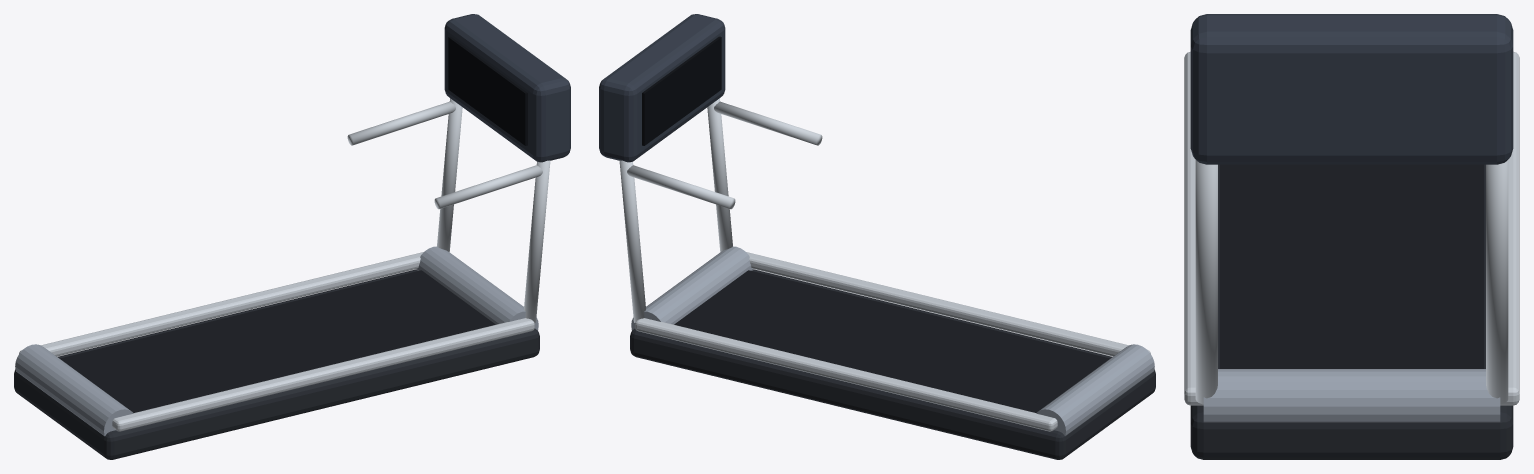
Rendered from cinta_correr.glb.
3 renders of one model, left to right at view 1: azimuth 30°, elevation 25°; view 2: azimuth 150°, elevation 25°; view 3: azimuth 270°, elevation 25°, orthographic. The views are drawn at different scales.
Parts seen in each view (by area): view 1: banda, Cube, Cube.003, Cube.001, Cube.002, pantalla, Cylinder, Cylinder.001, Cylinder.002, Cylinder.004, Cylinder.003, Cylinder.005; view 2: banda, Cube, Cube.003, Cube.002, Cube.001, pantalla, Cylinder, Cylinder.001, Cylinder.004, Cylinder.002, Cylinder.005, Cylinder.003; view 3: banda, Cube.003, Cylinder.001, Cube, Cylinder.002, Cylinder.004, Cube.001, Cube.002.
Boxes of the visible parts, left/top/right/bottom form: banda: left=59, top=270, right=495, bottom=412; Cube: left=14, top=269, right=539, bottom=459; Cube.003: left=444, top=14, right=570, bottom=162; Cube.001: left=112, top=318, right=534, bottom=431; Cube.002: left=19, top=252, right=423, bottom=356; pantalla: left=448, top=36, right=527, bottom=145; Cylinder: left=15, top=344, right=133, bottom=436; Cylinder.001: left=416, top=246, right=538, bottom=330; Cylinder.002: left=524, top=160, right=550, bottom=322; Cylinder.004: left=437, top=98, right=462, bottom=251; Cylinder.003: left=434, top=165, right=542, bottom=209; Cylinder.005: left=347, top=101, right=455, bottom=145; banda: left=674, top=270, right=1110, bottom=412; Cube: left=630, top=269, right=1155, bottom=459; Cube.003: left=599, top=14, right=725, bottom=162; Cube.002: left=635, top=318, right=1057, bottom=431; Cube.001: left=746, top=252, right=1150, bottom=356; pantalla: left=642, top=36, right=721, bottom=145; Cylinder: left=1036, top=344, right=1154, bottom=436; Cylinder.001: left=631, top=246, right=753, bottom=330; Cylinder.004: left=619, top=160, right=645, bottom=322; Cylinder.002: left=707, top=98, right=732, bottom=251; Cylinder.005: left=627, top=165, right=735, bottom=209; Cylinder.003: left=714, top=101, right=822, bottom=145; banda: left=1219, top=164, right=1484, bottom=368; Cube.003: left=1190, top=14, right=1513, bottom=164; Cylinder.001: left=1203, top=369, right=1500, bottom=422; Cube: left=1190, top=164, right=1513, bottom=459; Cylinder.002: left=1195, top=160, right=1217, bottom=404; Cylinder.004: left=1486, top=160, right=1508, bottom=404; Cube.001: left=1184, top=51, right=1203, bottom=405; Cube.002: left=1500, top=51, right=1519, bottom=405.
Bounding box in the file's own units: 2.79 × 1.55 × 1.04.
